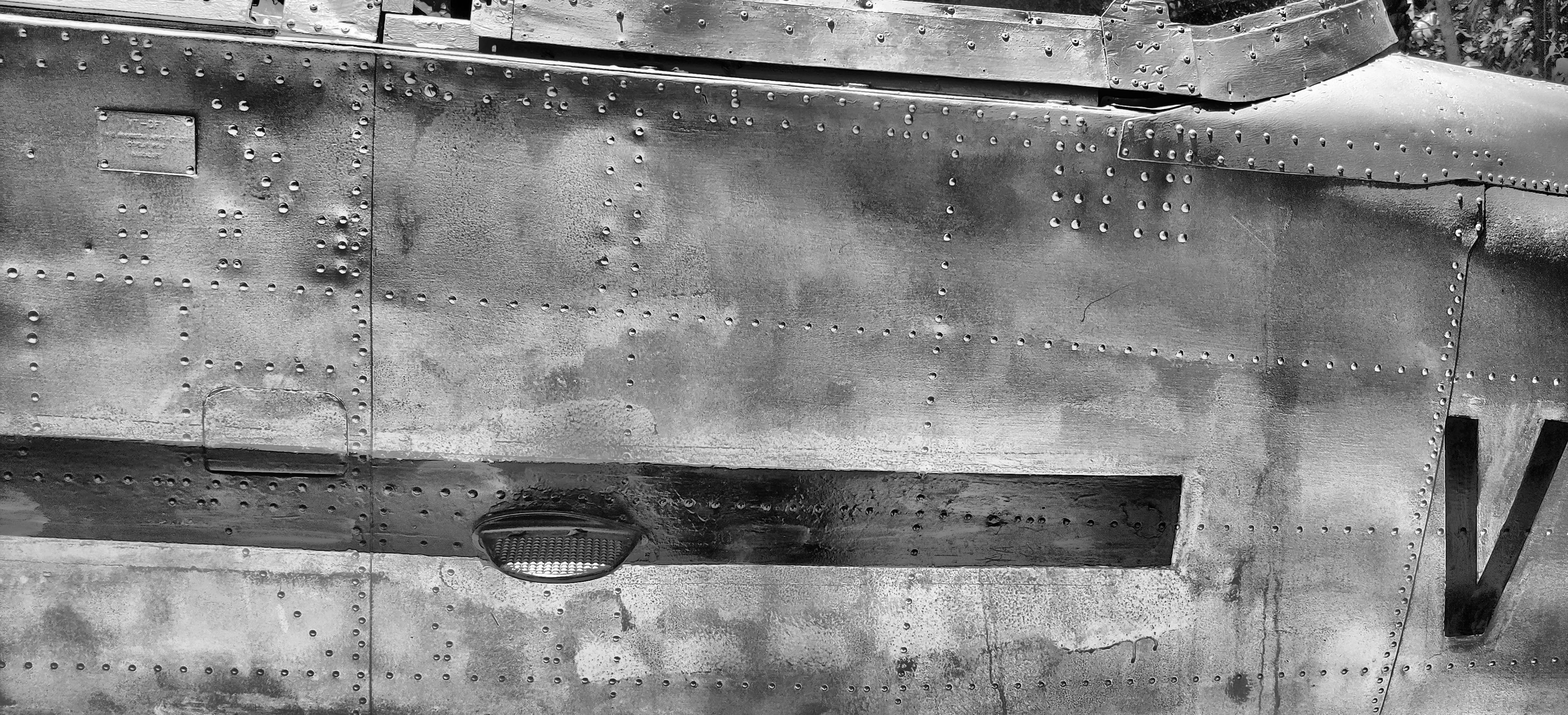missing-head: (521, 4, 528, 10), (1303, 74, 1308, 82), (619, 39, 624, 45), (1110, 18, 1115, 24), (728, 50, 734, 54), (649, 44, 654, 48), (823, 57, 827, 62), (1228, 91, 1233, 95), (522, 34, 528, 37), (982, 69, 986, 72), (1243, 95, 1245, 99)
scratch: (1081, 283, 1130, 323), (1231, 216, 1277, 257)
